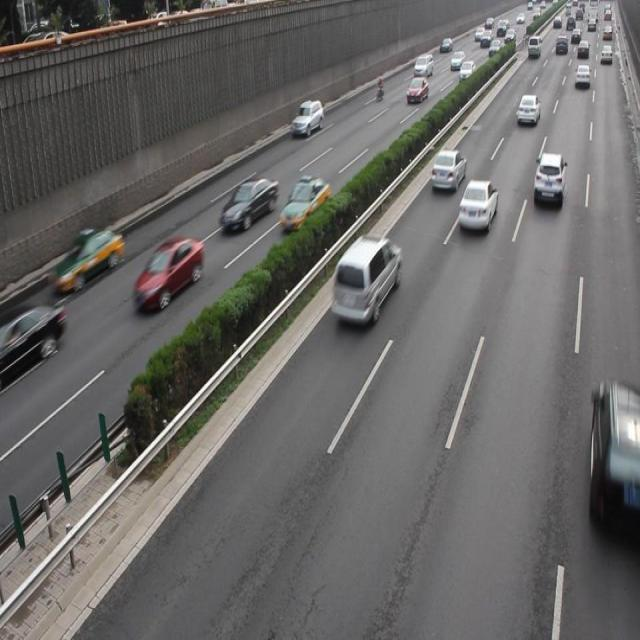car: (587, 380, 640, 540), (131, 235, 203, 311), (0, 298, 64, 382), (50, 226, 124, 292), (218, 174, 277, 236), (280, 177, 330, 231), (456, 177, 498, 232), (532, 151, 564, 207), (430, 148, 465, 190), (291, 100, 322, 135), (516, 92, 539, 124)
truck: (332, 234, 400, 323)
